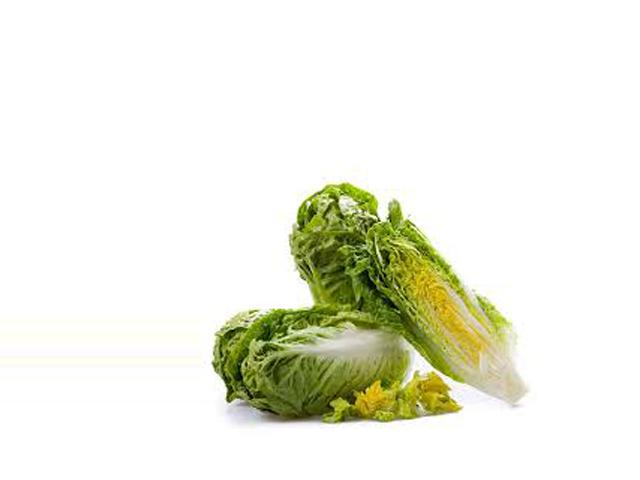lettuce: (217, 298, 433, 429)
